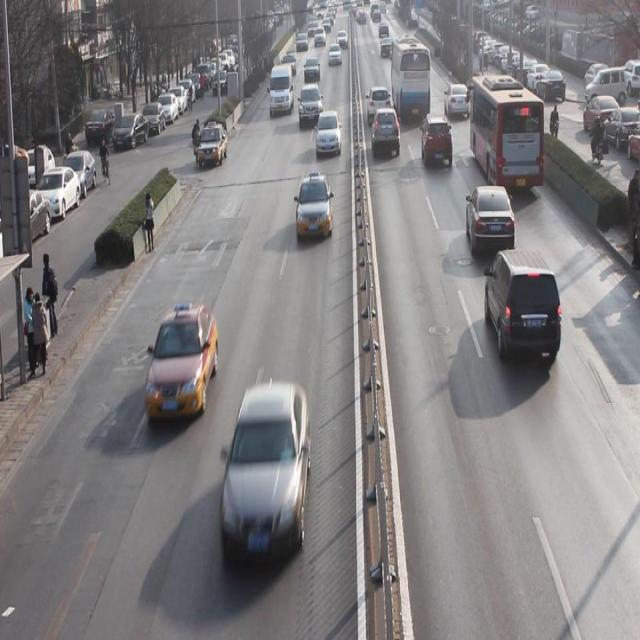car: (224, 387, 312, 554), (485, 248, 562, 365), (144, 313, 218, 425), (466, 182, 516, 260), (298, 170, 333, 242), (421, 118, 453, 168), (370, 108, 400, 160), (199, 118, 228, 166), (315, 109, 342, 160), (298, 84, 324, 128), (367, 83, 392, 124), (445, 82, 472, 118), (303, 57, 322, 85), (327, 43, 343, 73), (281, 51, 295, 78)
truck: (267, 65, 294, 119)
van: (469, 76, 543, 193), (391, 38, 430, 122)
